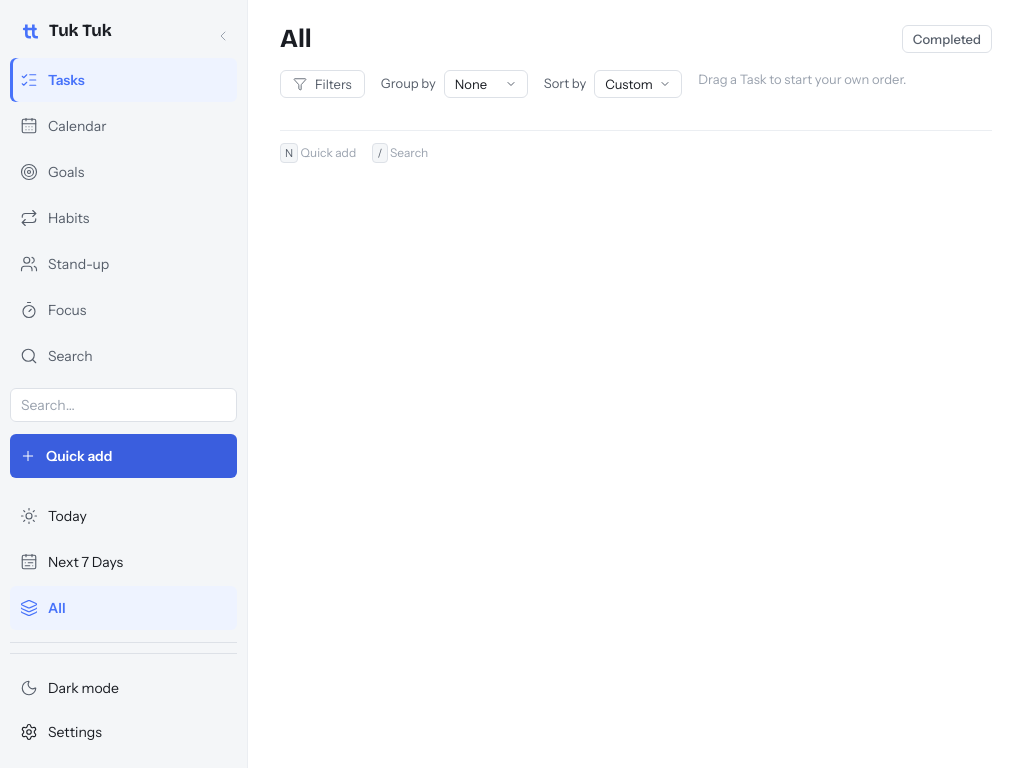
Test: Today's Habits › opens from the sidebar and queries the local day
Click the link "Habits" at (55, 218), box left=20, top=208, right=89, bottom=227
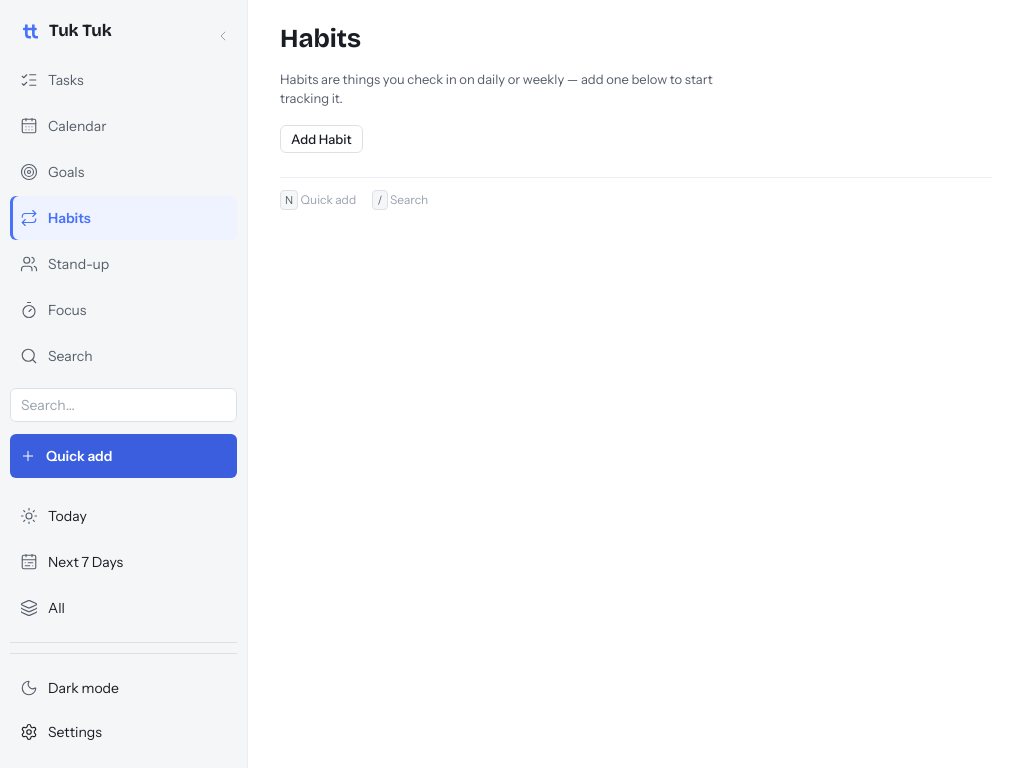
Expected: the heading "Habits" is shown, left=280, top=24, right=361, bottom=54
